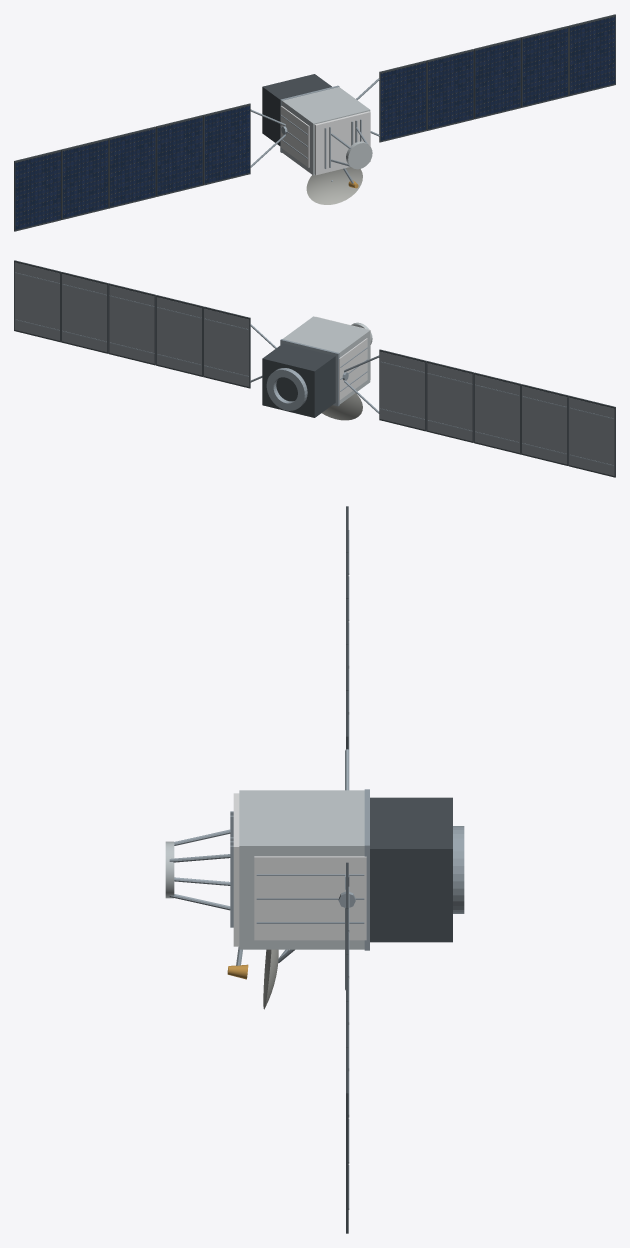
The model's file is ref-a2100ax-25331.glb.
3 views of the same model, one above another, from view 1: azimuth 30°, elevation 25°; view 2: azimuth 150°, elevation 25°; view 3: azimuth 270°, elevation 25° (orthographic). The views are drawn at different scales.
Parts seen in each view (by area): view 1: Solar cell panel (×10), Solar panel frame (×10), Payload module, Earth-facing deck, Service module, Communications reflector, Radiator face, Antenna tower platform; view 2: Rear array substrate (×10), Solar panel frame (×10), Service module, Payload module, Radiator face, Launch adapter ring, Communications reflector, Module interface; view 3: Service module, Payload module, Radiator face, Earth-facing deck, Launch adapter ring.
Part boxes in pixels (x1,y1,x2,y2): Solar cell panel (×10): [15, 16, 615, 229]; Solar panel frame (×10): [14, 14, 615, 231]; Payload module: [282, 87, 370, 175]; Earth-facing deck: [314, 111, 370, 175]; Service module: [262, 74, 331, 145]; Communications reflector: [306, 167, 362, 204]; Radiator face: [280, 106, 309, 167]; Antenna tower platform: [346, 141, 372, 169]; Rear array substrate (×10): [14, 262, 614, 475]; Solar panel frame (×10): [14, 260, 615, 477]; Service module: [262, 343, 335, 417]; Payload module: [283, 316, 370, 404]; Radiator face: [339, 338, 367, 400]; Launch adapter ring: [266, 368, 307, 410]; Communications reflector: [322, 393, 362, 420]; Module interface: [280, 339, 339, 406]; Service module: [370, 797, 452, 942]; Payload module: [239, 790, 364, 949]; Radiator face: [254, 856, 366, 940]; Earth-facing deck: [233, 793, 239, 946]; Launch adapter ring: [453, 826, 464, 913].
Bounding box in the file's own units: 26.38 × 4.23 × 5.67.
8 materials, 1 textured.
